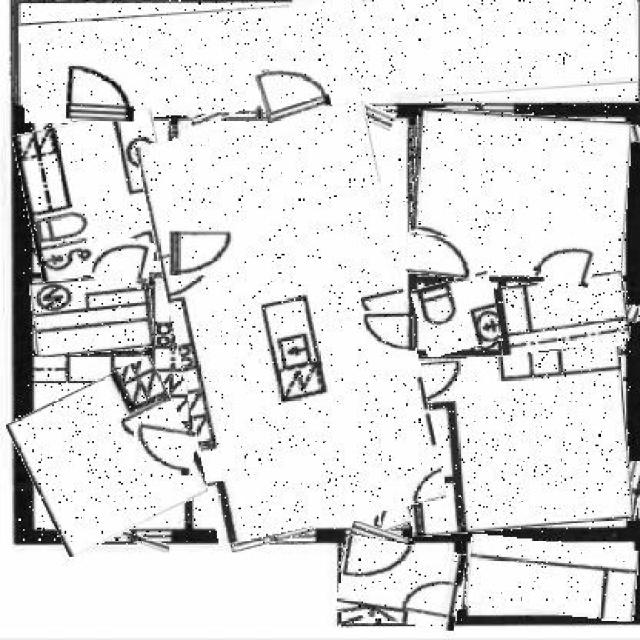door: (155, 111, 428, 535), (19, 0, 638, 112), (403, 352, 631, 534), (410, 112, 628, 278), (19, 369, 203, 543), (20, 114, 175, 277), (466, 538, 637, 618), (339, 540, 463, 626), (497, 275, 629, 351), (31, 274, 152, 355), (415, 275, 500, 354)
window: (342, 524, 412, 588), (255, 60, 328, 120), (66, 65, 136, 122), (131, 423, 195, 474), (404, 235, 478, 277), (170, 231, 236, 275), (94, 236, 152, 286), (536, 237, 596, 283), (363, 311, 415, 351), (409, 574, 468, 608), (377, 496, 420, 530)
zone: (230, 523, 312, 548), (328, 96, 395, 124), (190, 100, 256, 123), (97, 528, 171, 548), (443, 101, 514, 117), (623, 460, 640, 520), (626, 304, 640, 322), (626, 125, 640, 142)
